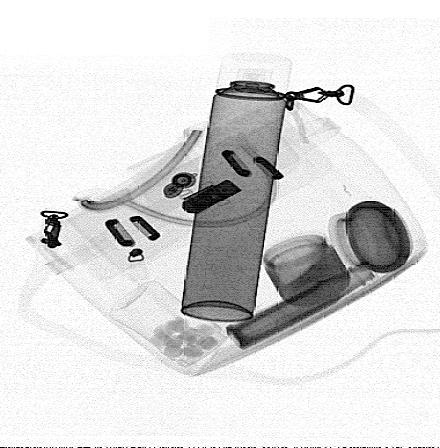Sprayer: (182, 53, 292, 322)
